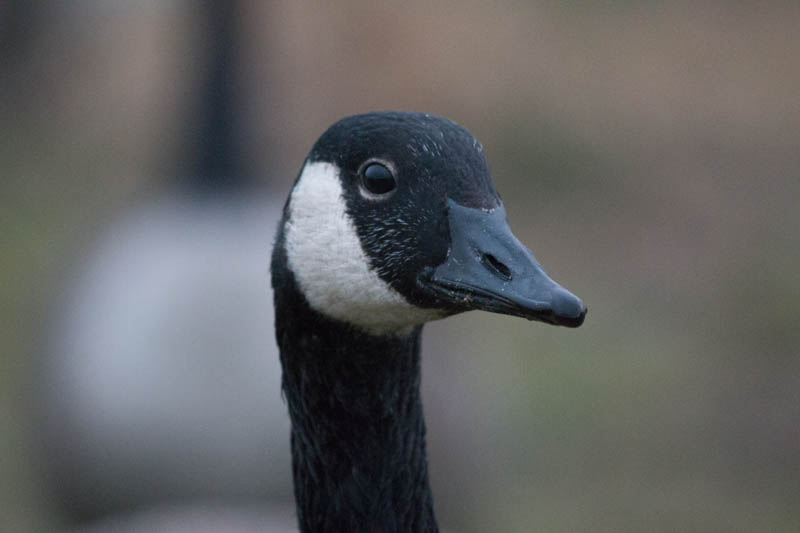goose-head: (269, 110, 587, 340)
